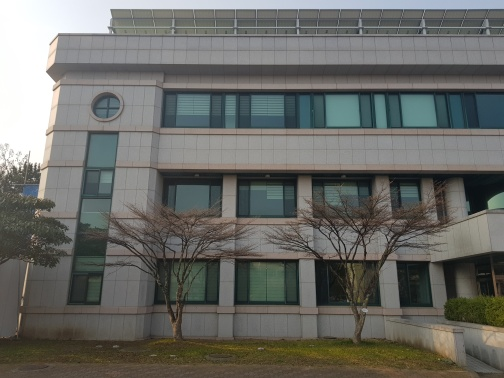Information Telecommunication Center: (40, 36, 504, 342), (34, 16, 503, 228)
